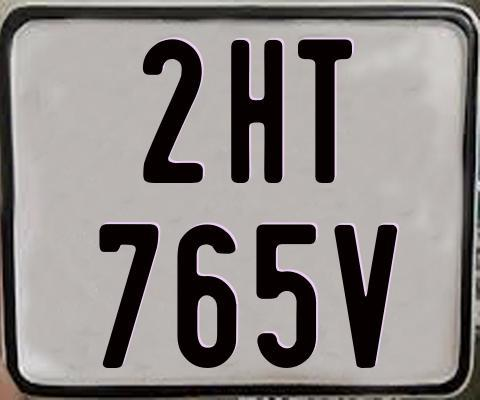2: (143, 38, 203, 184)
5: (255, 221, 321, 371)
6: (177, 221, 238, 366)
7: (96, 222, 160, 368)
H: (230, 37, 281, 185)
T: (295, 39, 350, 187)
V: (334, 222, 400, 369)
